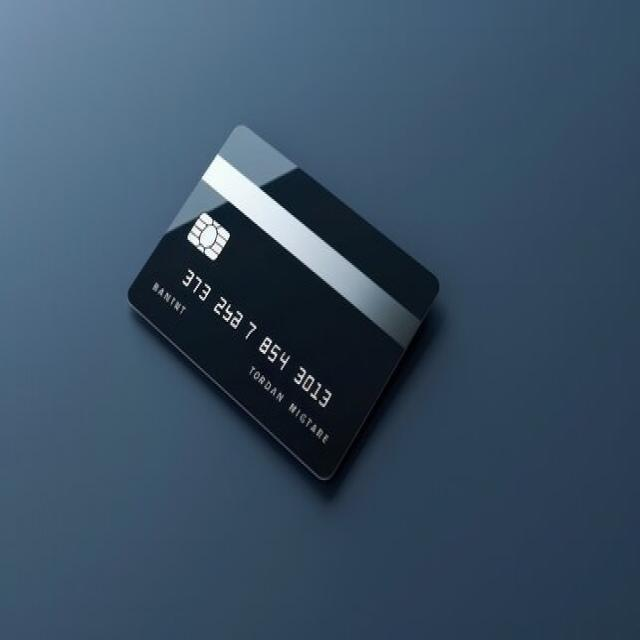payment_card: (125, 122, 440, 483)
